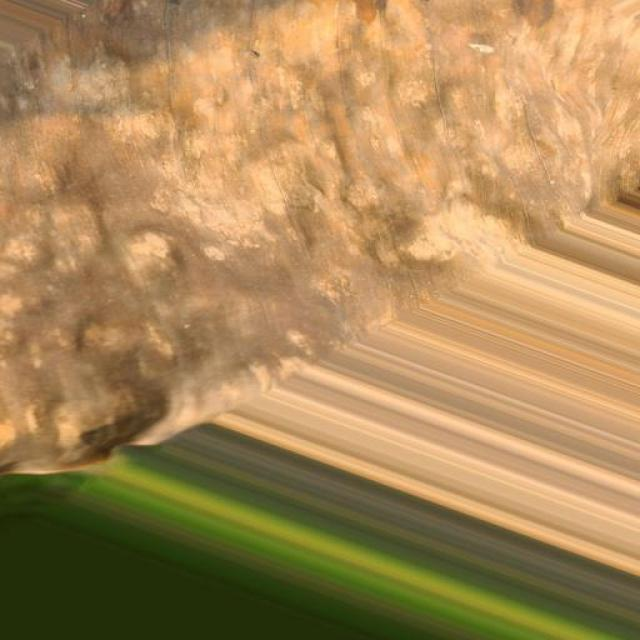Bract_mosaic_virus: (0, 5, 640, 603)
